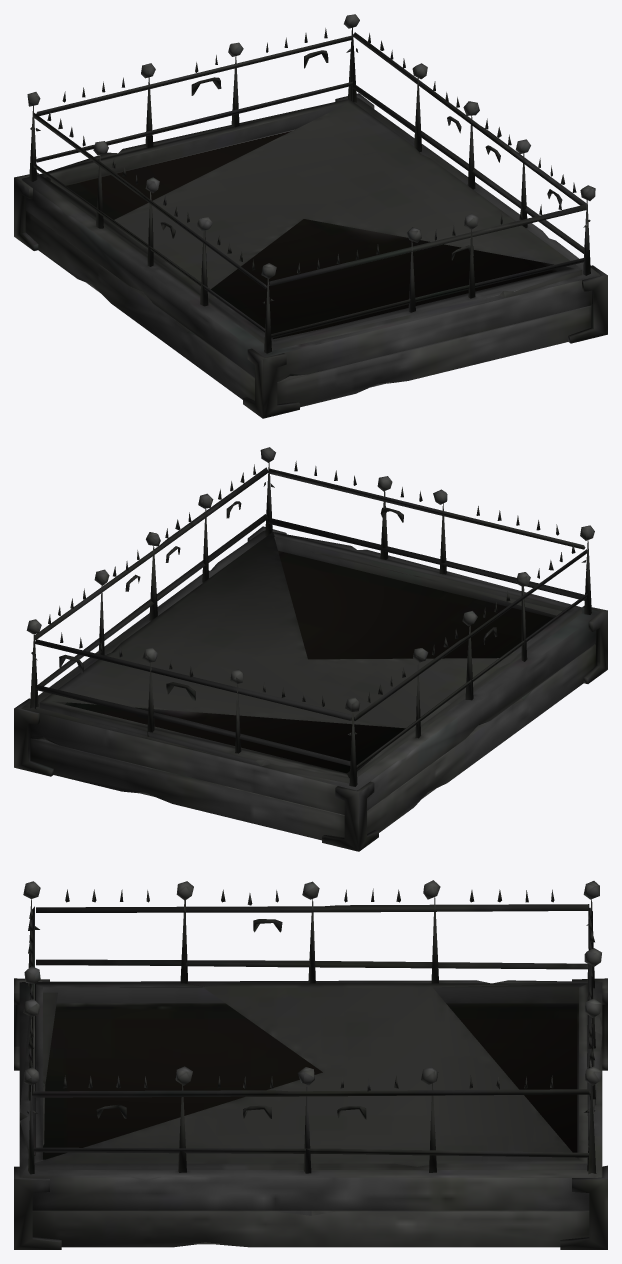
File: prop_node_garden_plot.glb
The picture shows the model from 3 angles, top to bottom: view 1: azimuth 30°, elevation 25°; view 2: azimuth 150°, elevation 25°; view 3: azimuth 270°, elevation 25°; orthographic projection. The views are drawn at different scales.
Parts seen in each view (by area): view 1: tripo_node_151b4a9c-35fc-44b7-a79a-4884e617d6d4; view 2: tripo_node_151b4a9c-35fc-44b7-a79a-4884e617d6d4; view 3: tripo_node_151b4a9c-35fc-44b7-a79a-4884e617d6d4.
Boxes of the visible parts, x1=… form: tripo_node_151b4a9c-35fc-44b7-a79a-4884e617d6d4: x1=14, y1=14, x2=607, y2=418; tripo_node_151b4a9c-35fc-44b7-a79a-4884e617d6d4: x1=14, y1=447, x2=607, y2=851; tripo_node_151b4a9c-35fc-44b7-a79a-4884e617d6d4: x1=14, y1=880, x2=607, y2=1249.
Size of the model in its own units: 0.7988 by 0.3223 by 0.998.
Materials: 1 (1 with a texture image).
